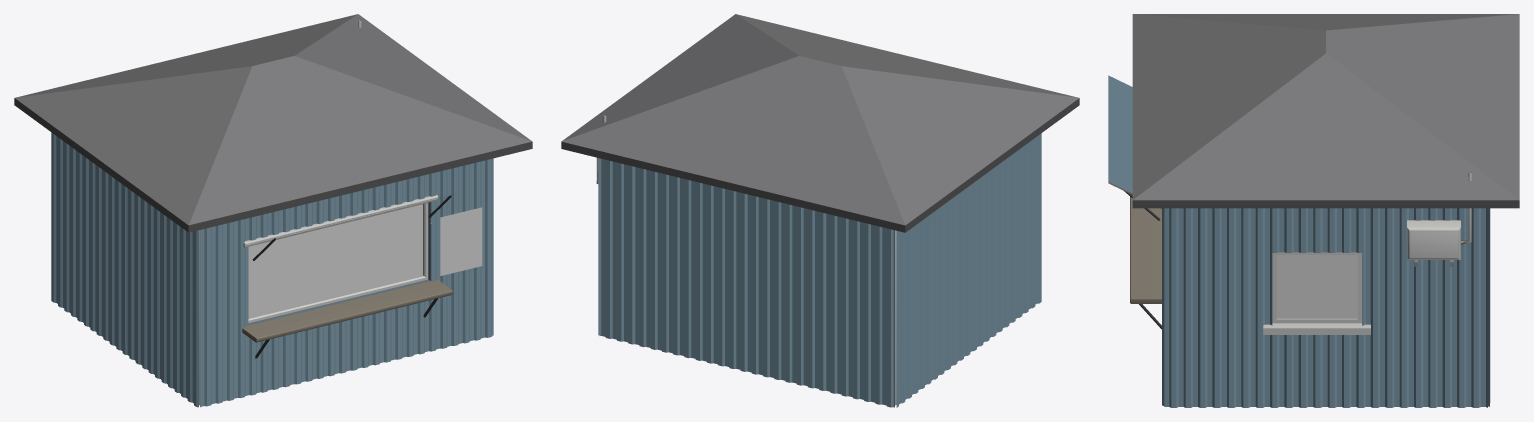
File: ShackFL.fbx
The picture shows the model from 3 angles, left to right: view 1: azimuth 30°, elevation 25°; view 2: azimuth 150°, elevation 25°; view 3: azimuth 270°, elevation 25°; orthographic projection. The views are drawn at different scales.
Parts seen in each view (by area): view 1: ShackFL; view 2: ShackFL; view 3: ShackFL.
Boxes of the visible parts, x1,y1,x2,y2 form: ShackFL: [14, 14, 532, 407]; ShackFL: [561, 14, 1079, 407]; ShackFL: [1108, 14, 1519, 407].
Bounding box in the file's own units: 4.9 × 3.5 × 4.57.
